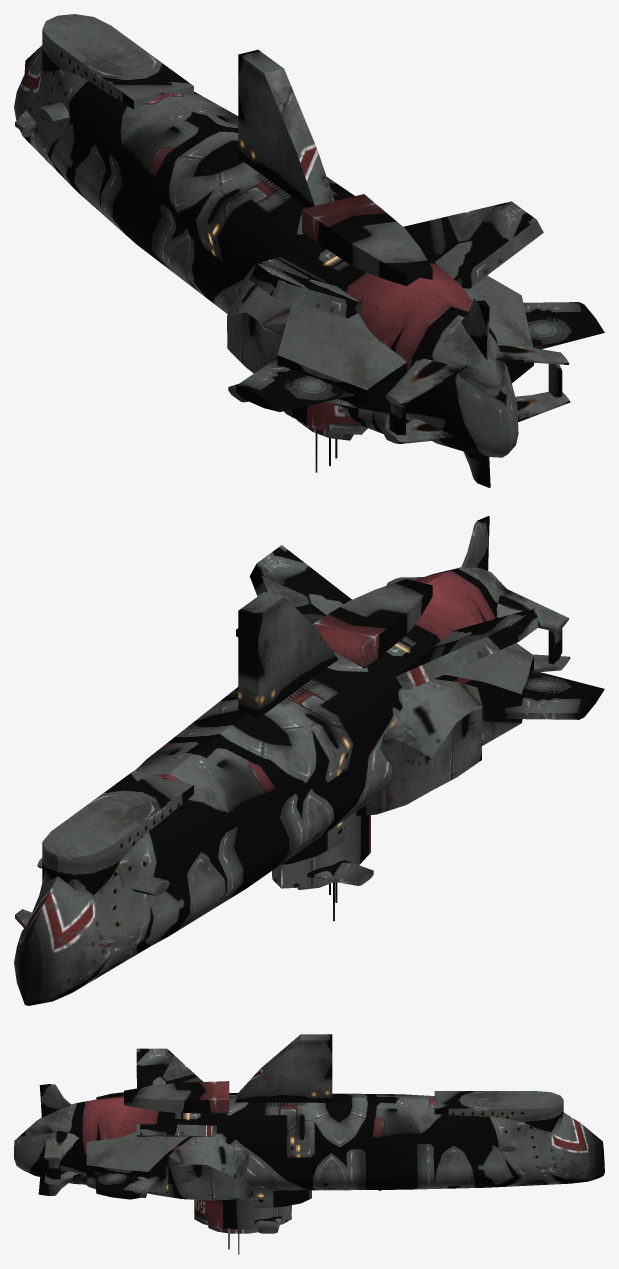
File: TypeXIII.fbx
3 views of the same model, one above another, from view 1: azimuth 30°, elevation 25°; view 2: azimuth 150°, elevation 25°; view 3: azimuth 270°, elevation 25° (orthographic). The views are drawn at different scales.
Parts seen in each view (by area): view 1: PipelineFBX; view 2: PipelineFBX; view 3: PipelineFBX.
Boxes of the visible parts, x1,y1,x2,y2 form: PipelineFBX: [14, 14, 604, 487]; PipelineFBX: [14, 516, 604, 1005]; PipelineFBX: [14, 1034, 604, 1254].
Size of the model in its own units: 413 by 416 by 1014.
1 material, 1 textured.
